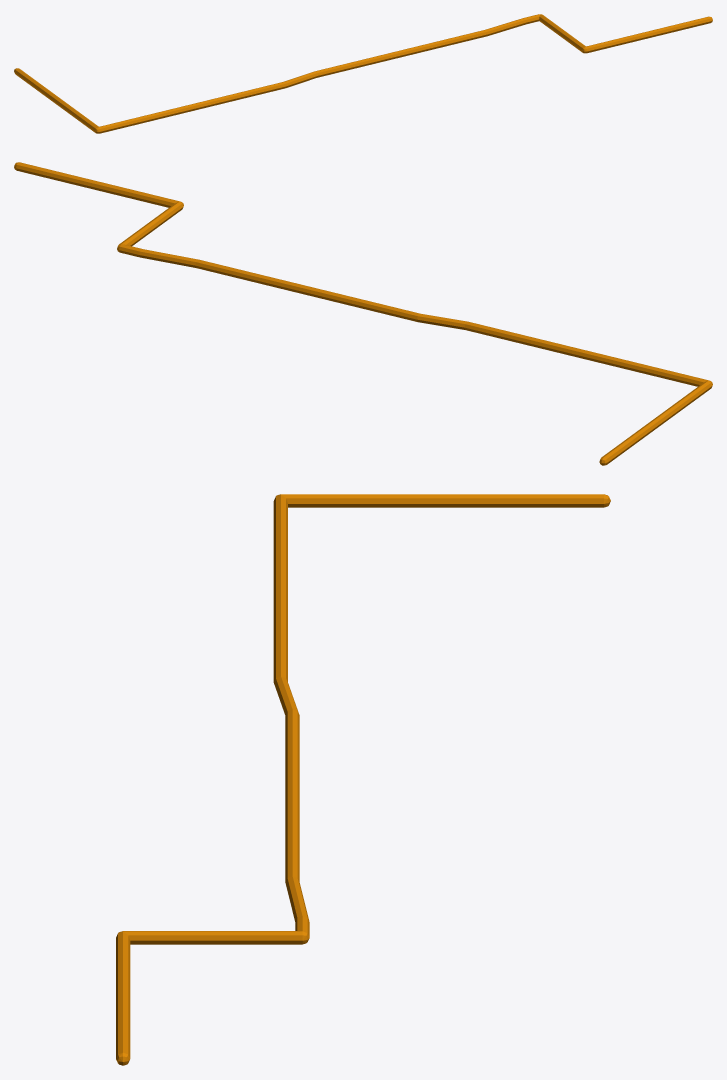
The picture shows the model from 3 angles, top to bottom: view 1: azimuth 30°, elevation 25°; view 2: azimuth 150°, elevation 25°; view 3: azimuth 270°, elevation 25°; orthographic projection. The views are drawn at different scales.
Size of the model in its own units: 1861 by 20 by 690.
